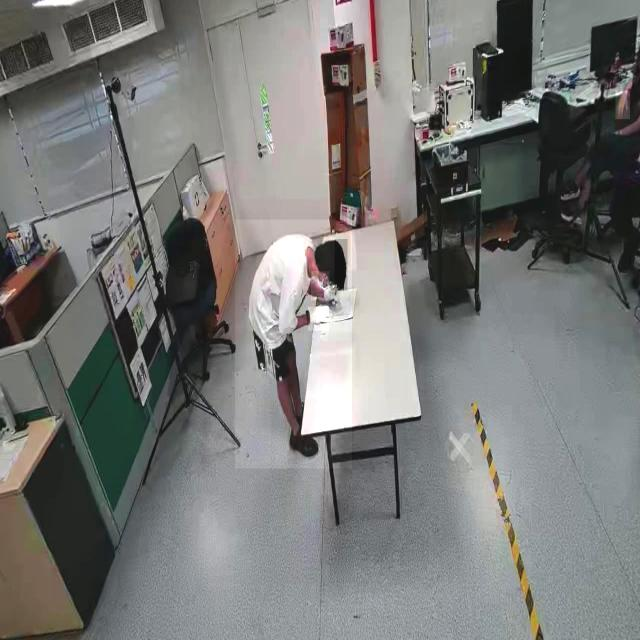face_mask: (311, 271, 329, 301)
hand_glove: (308, 306, 329, 331)
hand_noglove: (615, 91, 630, 120)
head_nohelmet: (334, 239, 348, 292)
person: (234, 220, 352, 470)
shoes: (286, 422, 320, 466)
